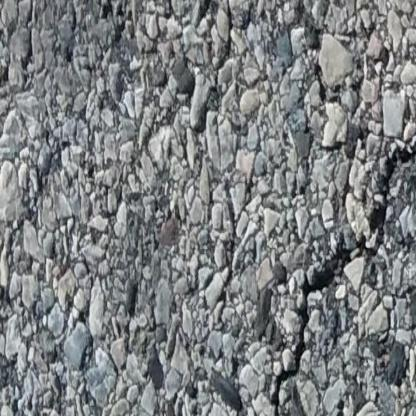Cracks: (249, 71, 416, 416)
